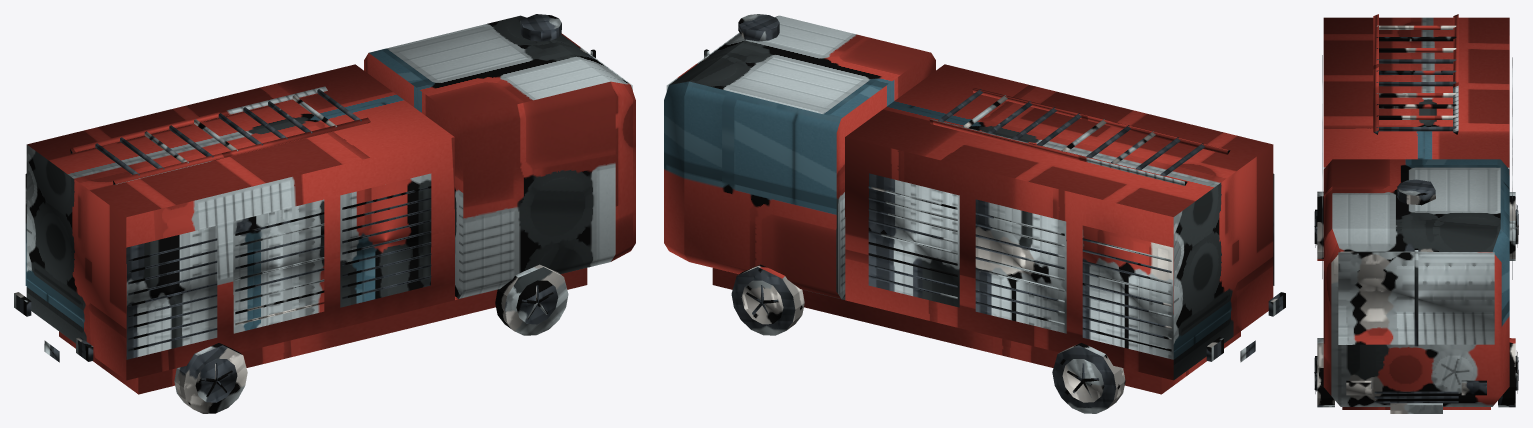
File: fire_engine.lod1.obj
3 views of the same model, side by side, from view 1: azimuth 30°, elevation 25°; view 2: azimuth 150°, elevation 25°; view 3: azimuth 270°, elevation 25° (orthographic). The views are drawn at different scales.
Visible parts, largest first — view 1: fire_engine; view 2: fire_engine; view 3: fire_engine.
Part boxes in pixels (x1,y1,x2,y2): fire_engine: (14, 14, 635, 413); fire_engine: (664, 14, 1285, 413); fire_engine: (1314, 14, 1518, 413).
Bounding box in the file's own units: 6.62 × 3.02 × 2.31.
Materials: 1 (1 with a texture image).
